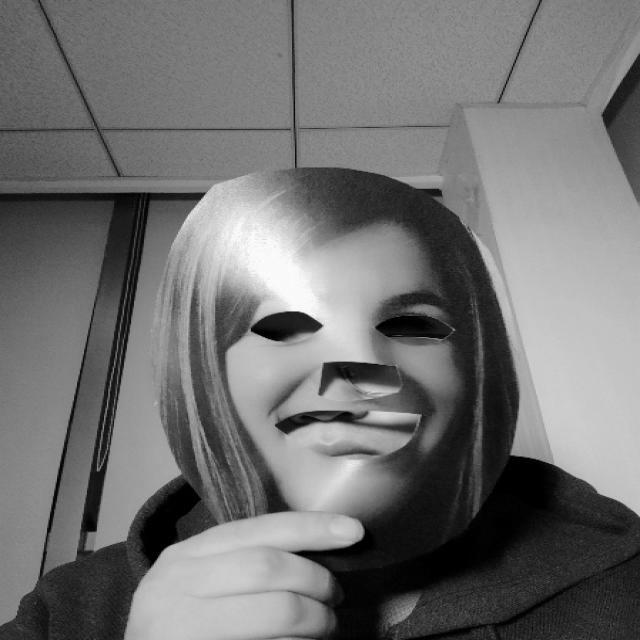fake: (148, 164, 526, 573)
